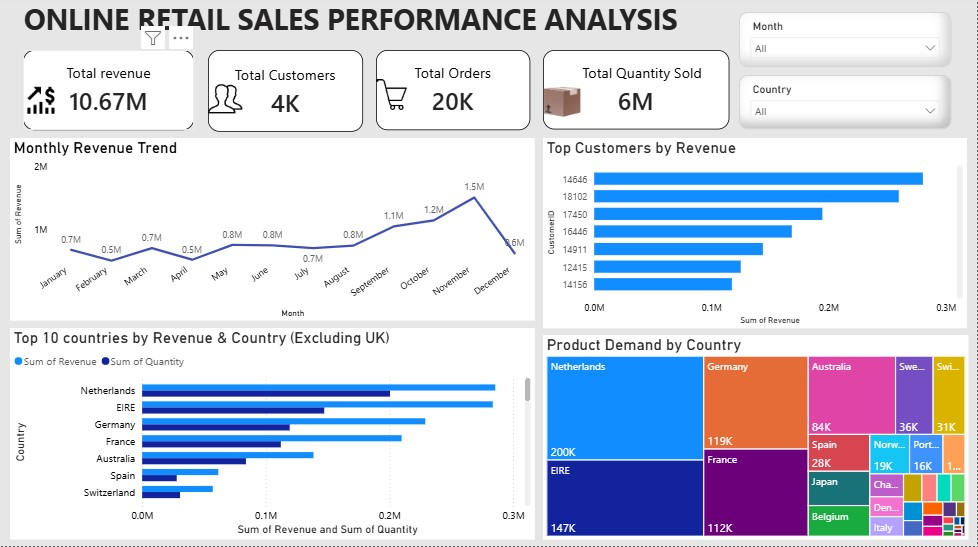

What the dashboard file says about the page in this screenshot:
{"tool":"powerbi","page":{"name":"Page 1","canvas":[1280,720],"ordinal":0},"visuals":[{"type":"lineChart","title":"Monthly Revenue Trend ","fields":{"Category":["Online Retail Data Set.Month"],"Y":["Sum(Online Retail Data Set.Revenue)"]},"box":[13.8,185.8,686.8,239.5],"z":0},{"type":"textbox","box":[27.5,0,927.7,59.2],"z":1000},{"type":"cardVisual","fields":{"Data":["Online Retail Data Set.Total Customers"]},"box":[273.9,70.2,203,107.4],"z":2000,"group":"g2"},{"type":"group","id":"g1","title":"Group 1","box":[711.6,70.2,243.6,104.6],"z":2000},{"type":"group","id":"g2","title":"Group 2","box":[273.9,70.2,202.3,107.4],"z":3000},{"type":"cardVisual","fields":{"Data":["Online Retail Data Set.Total Orders"]},"box":[494.1,70.2,202,104.6],"z":3000,"group":"g4"},{"type":"group","id":"g3","title":"Group 4","box":[31.7,70.2,224.3,104.6],"z":4000},{"type":"cardVisual","fields":{"Data":["Online Retail Data Set.Total Quantity Sold"]},"box":[711.6,70.2,243.6,104],"z":4000,"group":"g1"},{"type":"group","id":"g4","title":"Group 3","box":[494.1,70.2,202.3,104.6],"z":5000},{"type":"cardVisual","fields":{"Data":["Online Retail Data Set.Total revenue"]},"box":[31.7,70.2,224.3,104.6],"z":6000,"group":"g3"},{"type":"clusteredBarChart","title":"Top 10 countries by Revenue & Country (Excluding UK)","fields":{"Category":["Online Retail Data Set.Country"],"Y":["Sum(Online Retail Data Set.Revenue)","Sum(Online Retail Data Set.Quantity)"]},"box":[13.8,434.9,686.8,276.6],"z":6000},{"type":"image","box":[711.6,110.1,50,55],"z":6001,"group":"g1"},{"type":"image","box":[273.9,102.7,45.2,61.6],"z":6003,"group":"g2"},{"type":"image","box":[494.1,97.7,42.1,60.6],"z":6005,"group":"g4"},{"type":"image","box":[31.7,106,46.8,60.6],"z":6007,"group":"g3"},{"type":"clusteredBarChart","title":"Top Customers by Revenue","fields":{"Y":["Sum(Online Retail Data Set.Revenue)"],"Category":["Online Retail Data Set.CustomerID"]},"box":[711.6,185.8,554.7,249.1],"z":7000},{"type":"treemap","title":"Product Demand by Country","fields":{"Group":["Online Retail Data Set.Country"],"Values":["Sum(Online Retail Data Set.Quantity)"]},"box":[711.6,443.2,557.4,268.4],"z":8000},{"type":"slicer","fields":{"Values":["Online Retail Data Set.Country"]},"box":[968.9,103.2,278,71],"z":9000},{"type":"slicer","fields":{"Values":["Online Retail Data Set.Month"]},"box":[968.9,20.6,278,71.6],"z":10000}]}

Visuals, with their boxes in screenshot pixels (x1, y1, x2, y2), scaled from the page's 1280x720 canvas onto the 978x547 screenshot:
"Monthly Revenue Trend " lineChart: <box>11,141,535,323</box>
textbox: <box>21,0,730,45</box>
cardVisual - Online Retail Data Set.Total Customers: <box>209,53,364,135</box>
"Group 1" group: <box>544,53,730,133</box>
"Group 2" group: <box>209,53,364,135</box>
cardVisual - Online Retail Data Set.Total Orders: <box>378,53,532,133</box>
"Group 4" group: <box>24,53,196,133</box>
cardVisual - Online Retail Data Set.Total Quantity Sold: <box>544,53,730,132</box>
"Group 3" group: <box>378,53,532,133</box>
cardVisual - Online Retail Data Set.Total revenue: <box>24,53,196,133</box>
"Top 10 countries by Revenue & Country (Excluding UK)" clusteredBarChart: <box>11,330,535,541</box>
image: <box>544,84,582,125</box>
image: <box>209,78,244,125</box>
image: <box>378,74,410,120</box>
image: <box>24,81,60,127</box>
"Top Customers by Revenue" clusteredBarChart: <box>544,141,968,330</box>
"Product Demand by Country" treemap: <box>544,337,970,541</box>
slicer - Online Retail Data Set.Country: <box>740,78,953,132</box>
slicer - Online Retail Data Set.Month: <box>740,16,953,70</box>
